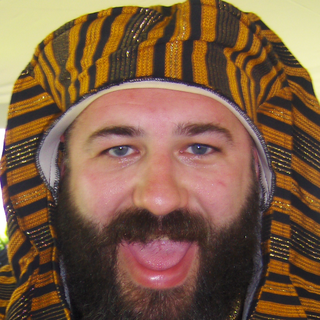eye: (175, 138, 223, 163), (97, 140, 144, 164)
